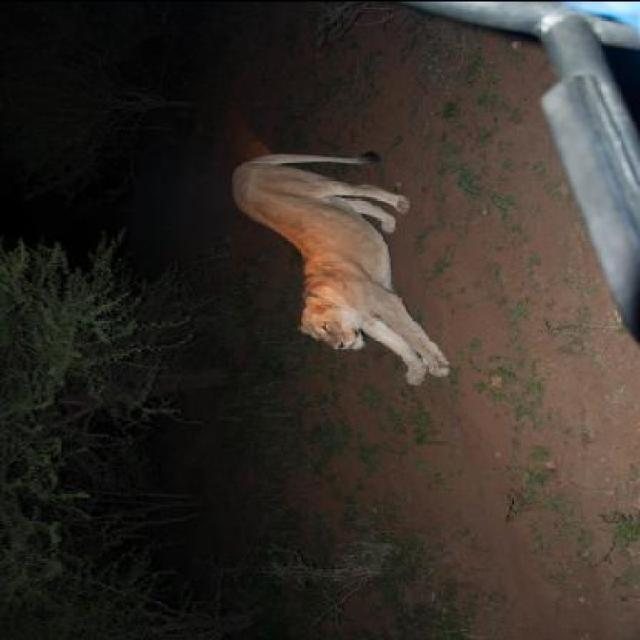Lion: (217, 126, 465, 394)
